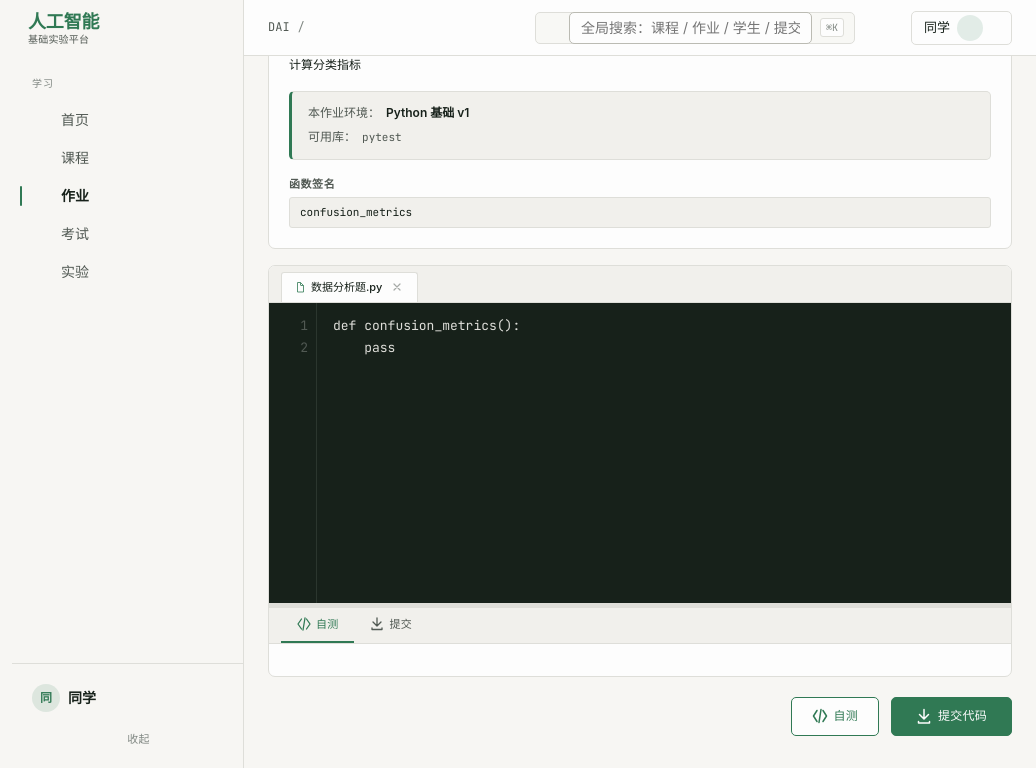
Test: AssignmentDetailView Phase 5: 学生端环境提示与诊断 › 判题结果优先显示结构化中文诊断，不含裸 traceback
(page scrolled)
Click the button with class "btn-submit-code".
click(952, 716)  # box [891,697,1012,736]
(page scrolled)
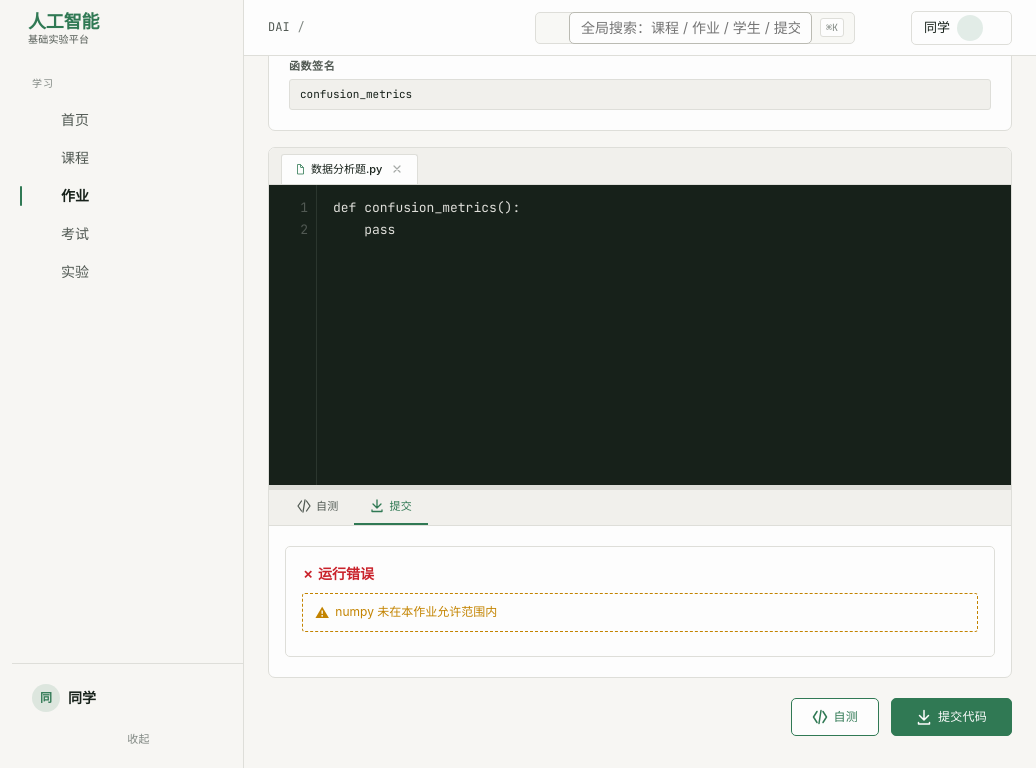
Expected: the element with class "submit-result-card" is shown, [285,546,995,657]
Expected: the text "numpy 未在本作业允许范围内" is shown, [335,604,497,619]
